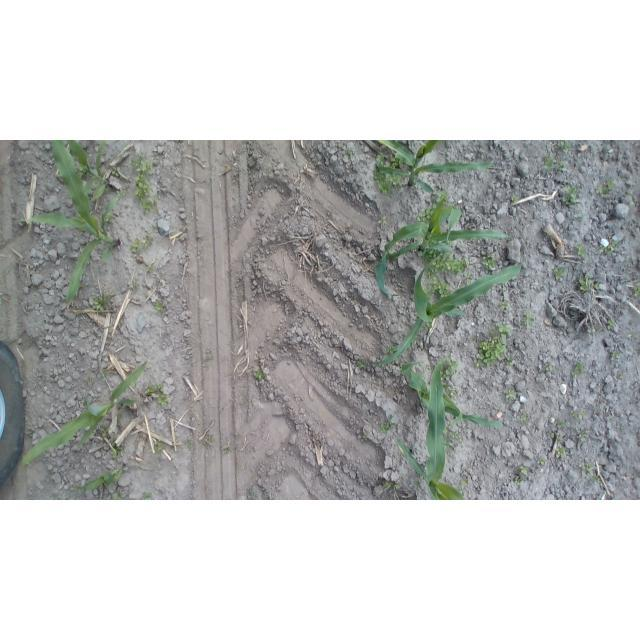Maize: (18, 140, 118, 313), (378, 256, 523, 366), (375, 204, 514, 299), (22, 363, 147, 468), (397, 364, 466, 500), (401, 361, 504, 434), (375, 140, 493, 196), (65, 141, 109, 200), (74, 466, 122, 492)
Weeds: (419, 241, 474, 284), (469, 321, 515, 367), (130, 151, 159, 214), (372, 154, 405, 194), (442, 423, 463, 453), (144, 382, 169, 406), (424, 281, 453, 300), (440, 357, 458, 381), (92, 293, 113, 312), (130, 235, 152, 253), (577, 275, 599, 293), (597, 178, 616, 198), (416, 204, 437, 222), (559, 184, 576, 205), (481, 251, 498, 269), (153, 436, 171, 453), (569, 359, 586, 377), (380, 416, 396, 432), (386, 344, 400, 361), (555, 140, 572, 153), (522, 311, 535, 328), (600, 242, 617, 255), (543, 151, 555, 169), (434, 189, 446, 205), (110, 442, 122, 458), (554, 267, 568, 280), (78, 166, 93, 178), (154, 300, 166, 315), (571, 410, 589, 420), (384, 480, 401, 490), (504, 388, 516, 400), (254, 369, 267, 380), (610, 351, 623, 362), (575, 242, 585, 256), (557, 159, 567, 173), (359, 356, 368, 370), (410, 336, 419, 349), (578, 430, 587, 443), (110, 167, 120, 178), (449, 387, 460, 397), (99, 427, 110, 437), (556, 447, 566, 458), (112, 491, 124, 500), (343, 149, 355, 158), (580, 463, 592, 472), (633, 282, 640, 297), (249, 490, 259, 500), (142, 491, 153, 500), (519, 464, 527, 476), (146, 262, 155, 272), (105, 213, 114, 223), (117, 188, 127, 197), (606, 320, 615, 330), (206, 347, 214, 358), (555, 420, 567, 427), (377, 359, 386, 368), (378, 217, 387, 226), (520, 412, 529, 421), (224, 444, 232, 453), (129, 280, 137, 289), (423, 363, 431, 372), (424, 321, 433, 329), (592, 475, 601, 483), (511, 194, 519, 202), (536, 457, 544, 465), (556, 436, 564, 444), (442, 382, 451, 389), (502, 300, 509, 309), (101, 372, 108, 381), (184, 441, 193, 448), (461, 476, 468, 485), (544, 365, 553, 372), (515, 475, 522, 483), (586, 327, 595, 333), (521, 252, 527, 261), (206, 436, 213, 443), (628, 333, 636, 339), (577, 214, 583, 221), (363, 433, 368, 441), (415, 478, 421, 484), (522, 403, 528, 409), (83, 376, 89, 381), (619, 374, 625, 379), (548, 432, 554, 437), (629, 201, 635, 205), (440, 228, 444, 232)
